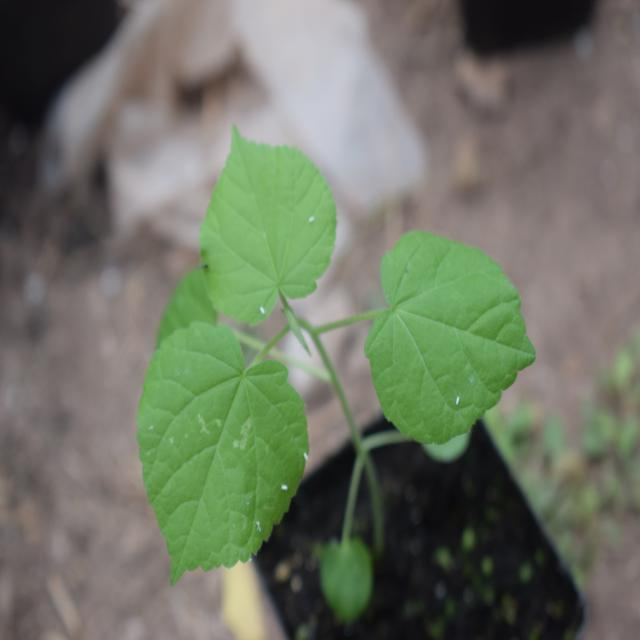abutilon theophrasti: (138, 125, 528, 589)
